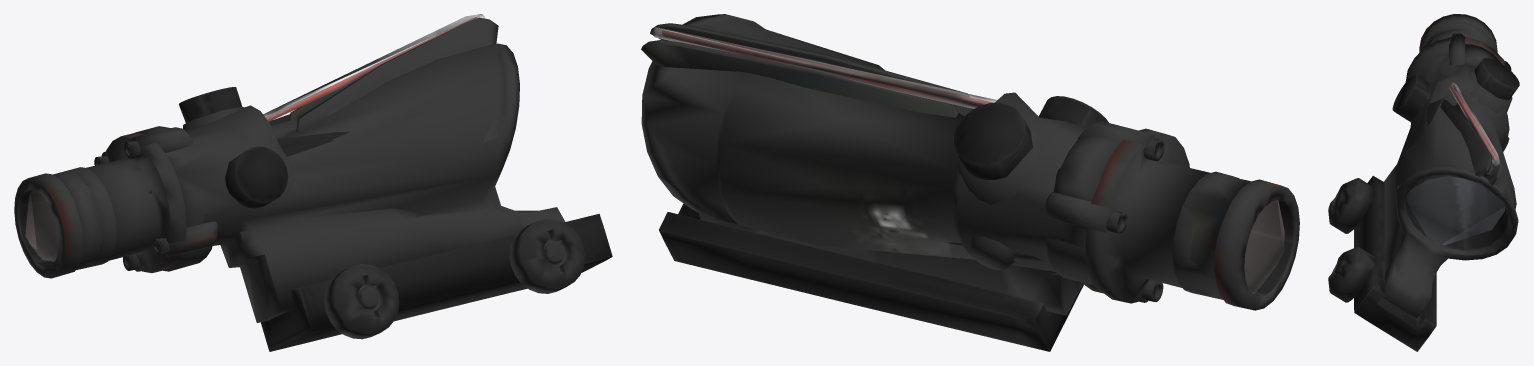
File: acog.glb
3 views of the same model, side by side, from view 1: azimuth 30°, elevation 25°; view 2: azimuth 150°, elevation 25°; view 3: azimuth 270°, elevation 25° (orthographic). The views are drawn at different scales.
Visible parts, largest first — view 1: acog_acog_0, glass front_glass front_0; view 2: acog_acog_0, glass front_glass front_0; view 3: acog_acog_0, glass back_glass back_0.
Boxes of the visible parts, x1,y1,x2,y2 form: acog_acog_0: [14, 14, 612, 351]; glass front_glass front_0: [25, 190, 58, 261]; acog_acog_0: [641, 14, 1299, 351]; glass front_glass front_0: [1244, 200, 1284, 293]; acog_acog_0: [1328, 14, 1519, 351]; glass back_glass back_0: [1406, 176, 1504, 245].
Bounding box in the file's own units: 3.5 × 1.56 × 1.5.
Materials: 4 (2 with a texture image).
